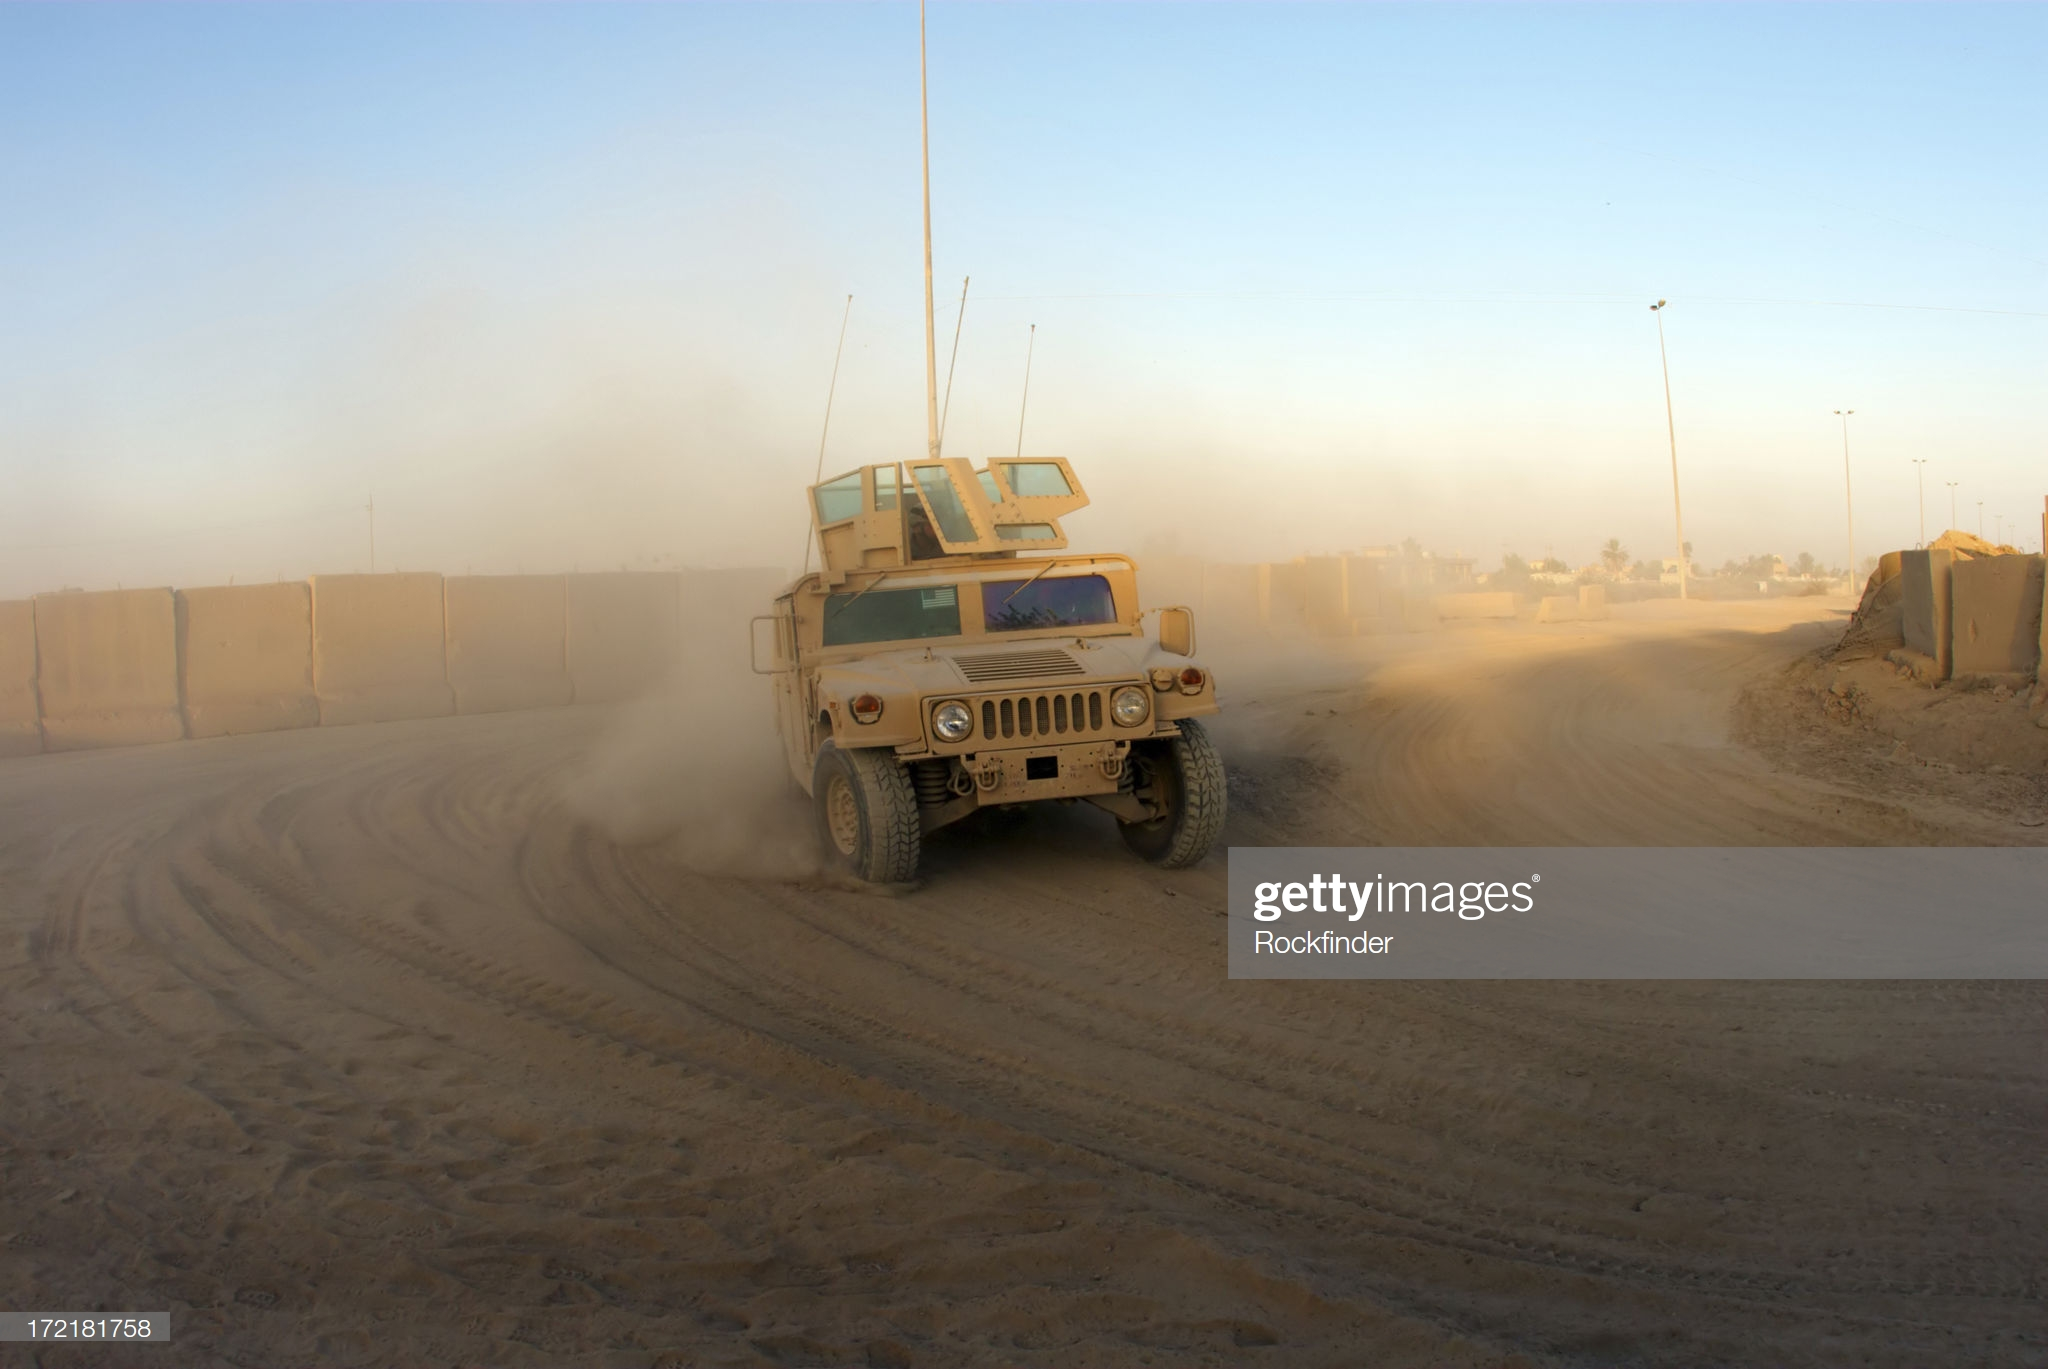hummer: (768, 541, 1240, 877)
